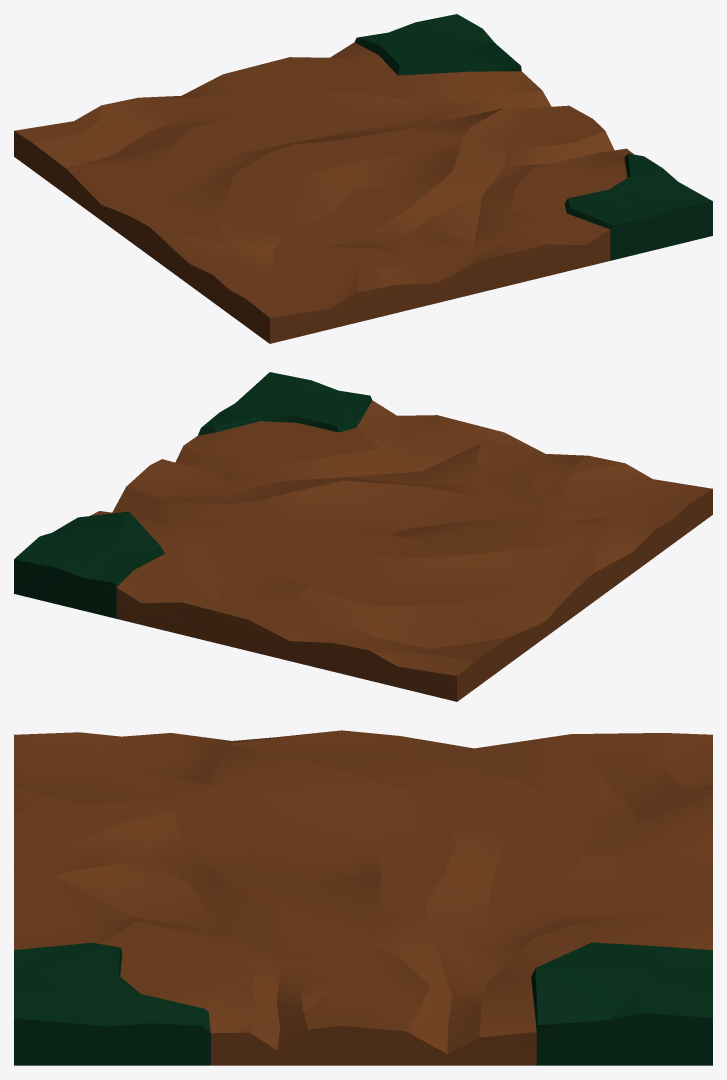
Rendered from Ground_Road_Entrance_R_1.fbx.
3 views of the same model, one above another, from view 1: azimuth 30°, elevation 25°; view 2: azimuth 150°, elevation 25°; view 3: azimuth 270°, elevation 25° (orthographic). The views are drawn at different scales.
Parts seen in each view (by area): view 1: Ground_Road_Entrance_R_1; view 2: Ground_Road_Entrance_R_1; view 3: Ground_Road_Entrance_R_1.
Part boxes in pixels (box(x1,y1,x2,y2)): Ground_Road_Entrance_R_1: box(14, 14, 712, 343); Ground_Road_Entrance_R_1: box(14, 372, 712, 701); Ground_Road_Entrance_R_1: box(14, 730, 712, 1065).
Size of the model in its own units: 147 by 14.83 by 147.
